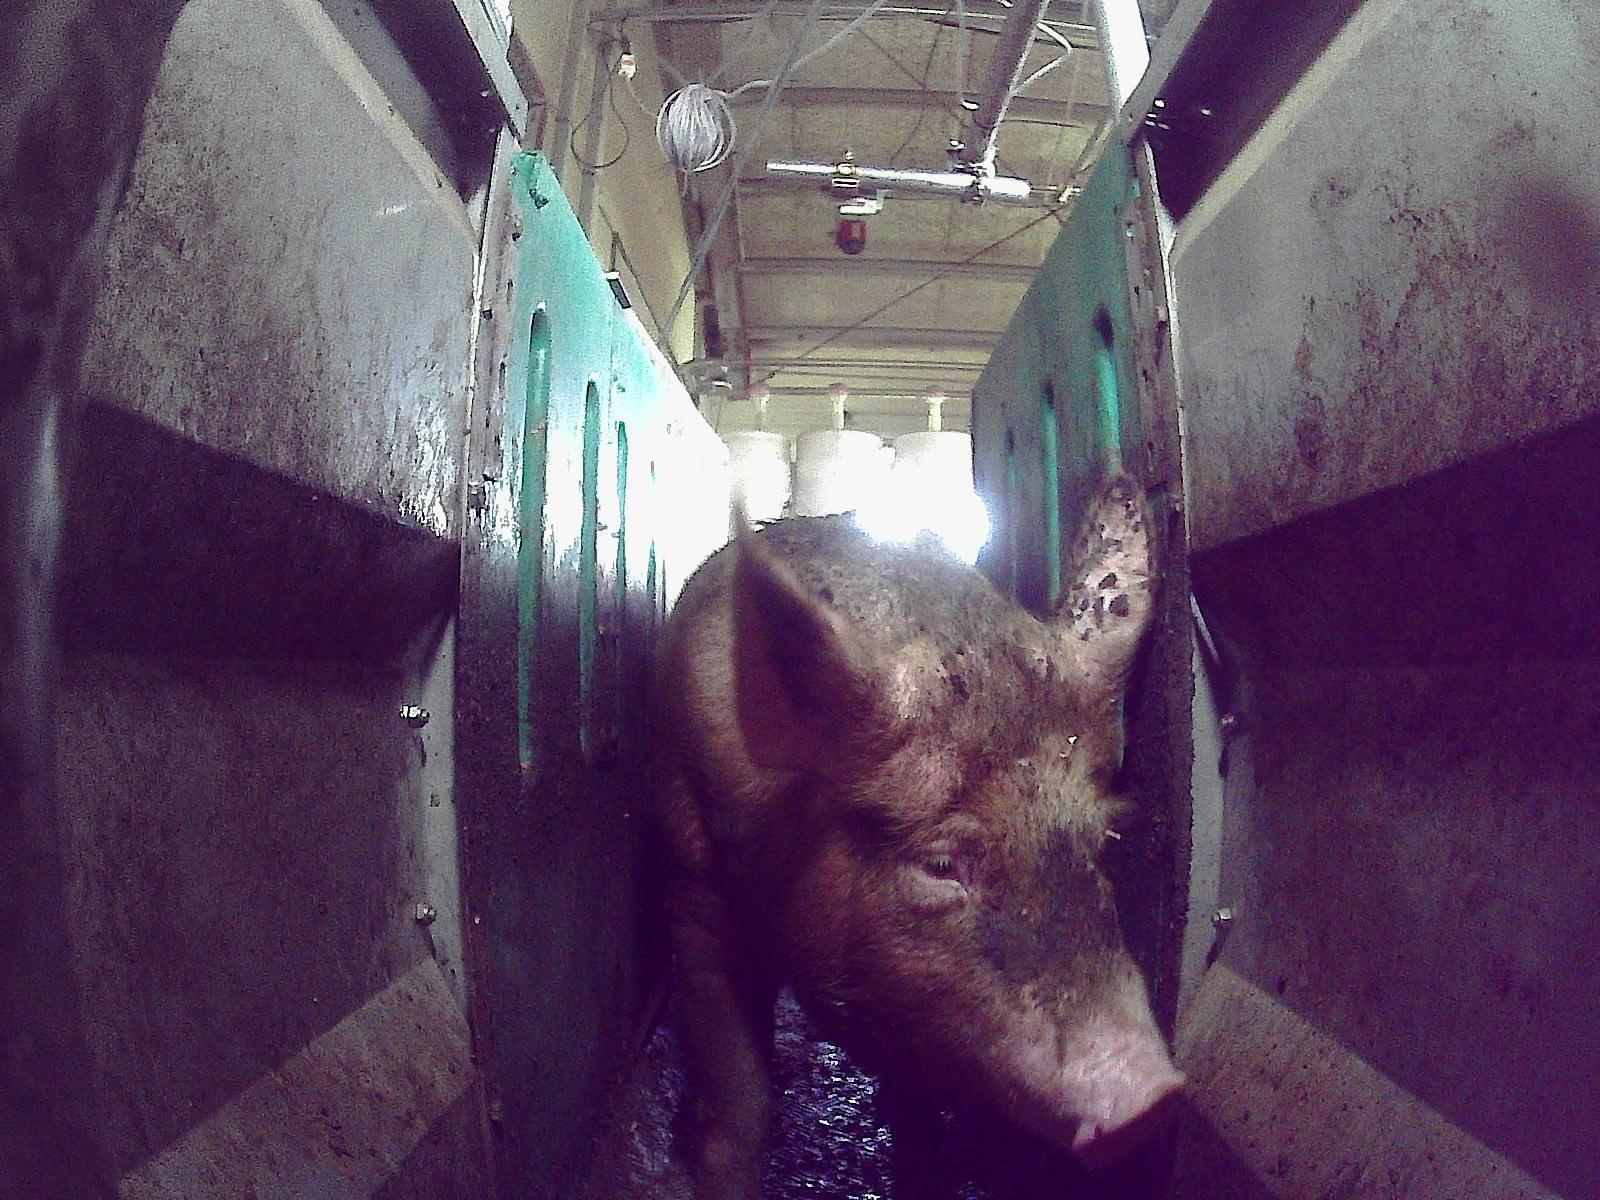Face: (780, 664, 1188, 1167)
